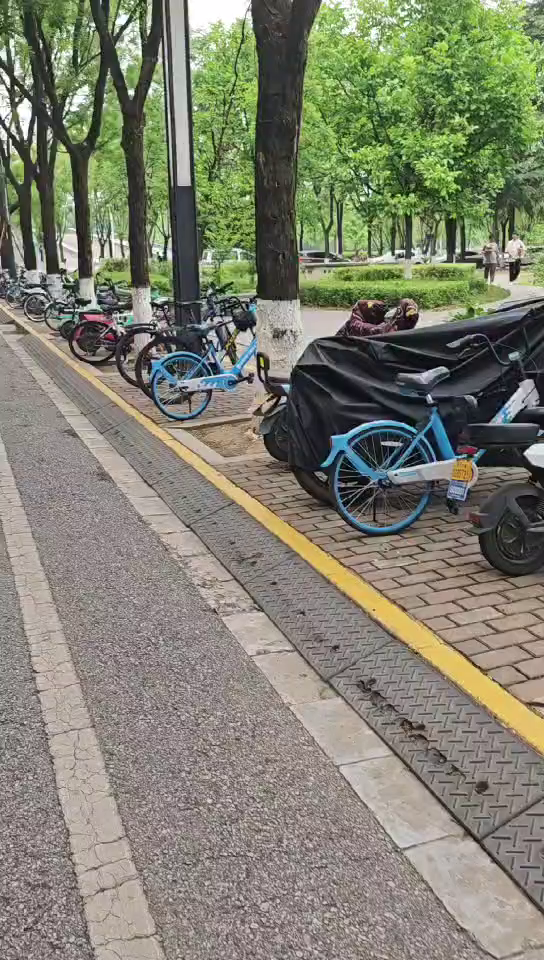others: (75, 302, 164, 371)
shared_bike_haluo: (333, 330, 532, 528), (156, 304, 278, 412)
